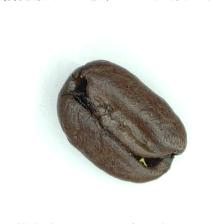NG: (75, 71, 164, 171)
